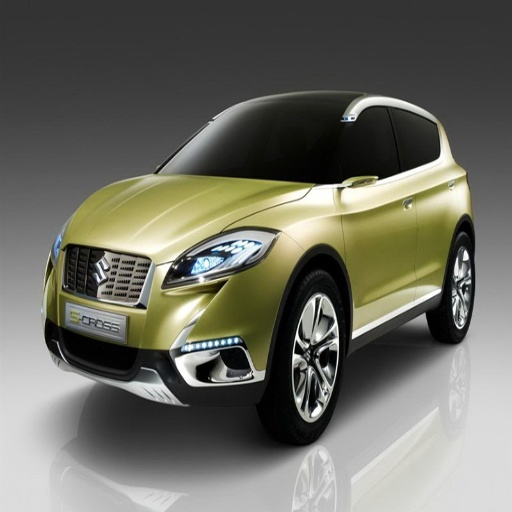front_bumper: (45, 243, 291, 402)
front_glass: (158, 96, 347, 181)
front_left_door: (339, 104, 416, 306)
